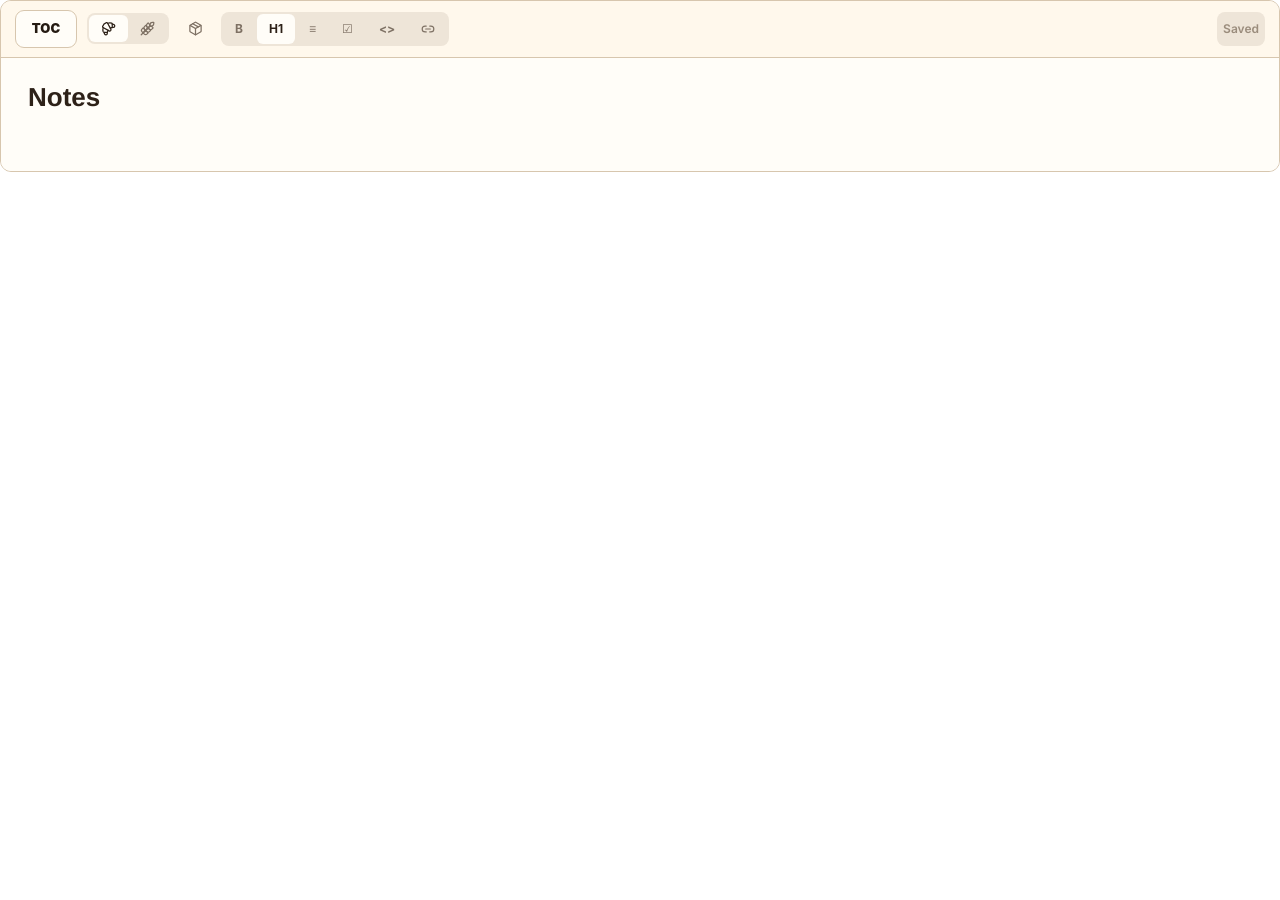
it: MarkdownEditor › places export after rich/raw and opens a PDF export dialog defaulting to Downloads
Click the button named "Export".
click(195, 29)  # box [179,13,211,45]
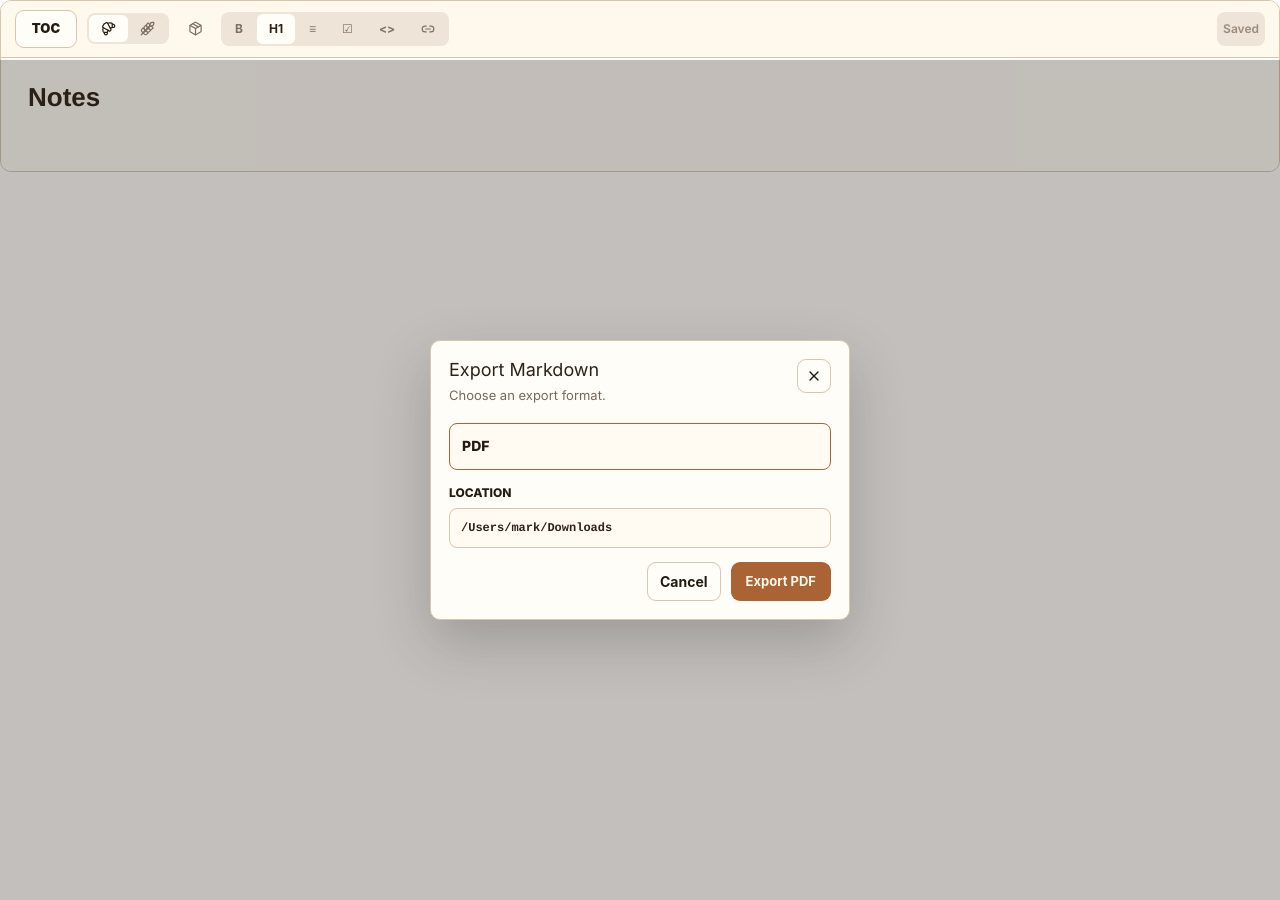
Expected: the text "PDF" is shown, [462,436,490,457]
Expected: the text "/Users/mark/Downloads" is shown, [449,508,831,548]
